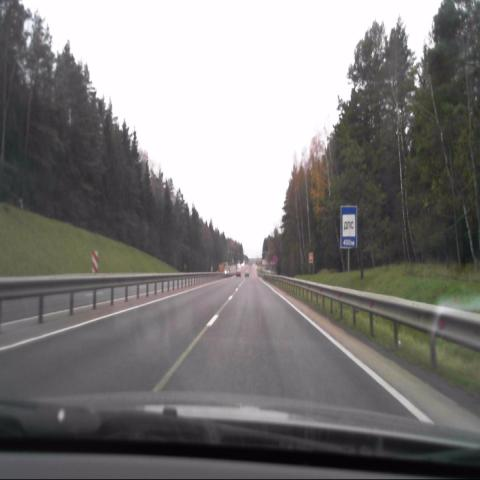7_12: (340, 204, 357, 248)
